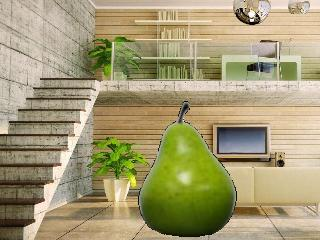pear: (139, 102, 237, 238)
